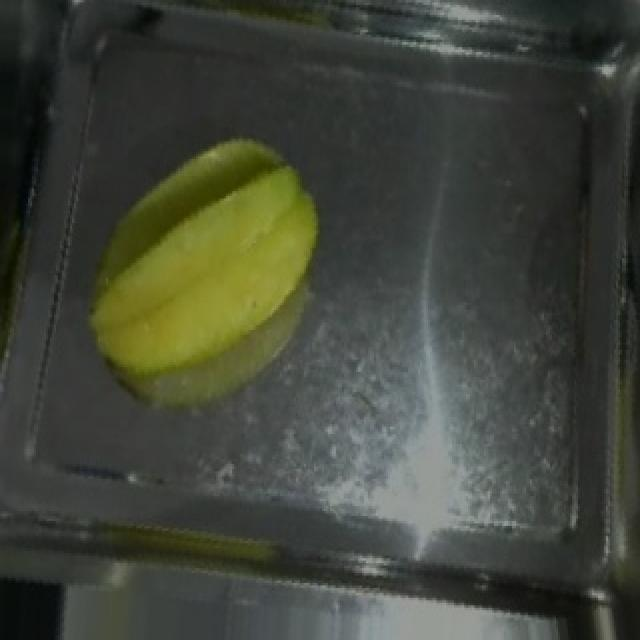fruit: (66, 109, 342, 424)
